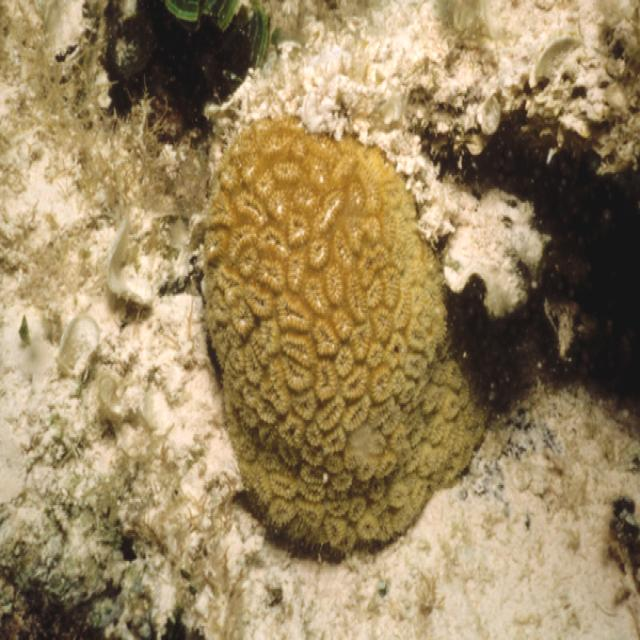Coral: (192, 114, 491, 556)
